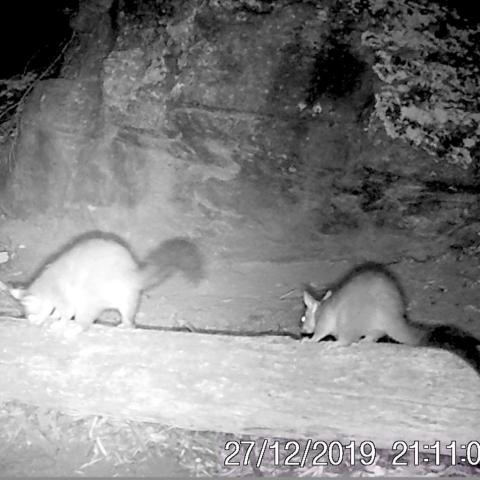small_animal: (9, 228, 205, 336), (297, 260, 423, 347)
